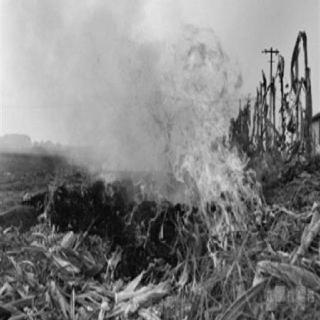other: (261, 280, 318, 311)
